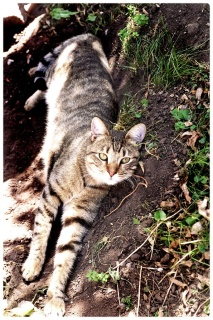Cat: (21, 31, 147, 319)
